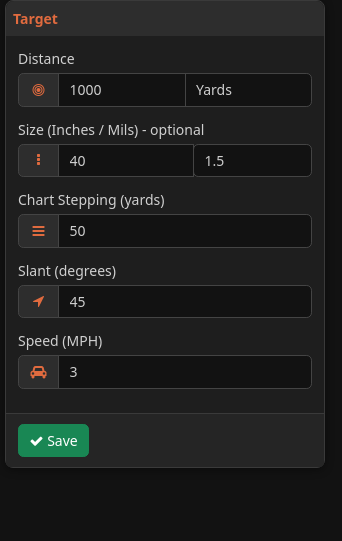
Test case: displays validation error for chartStepping when value exceeds max
Replace the text in the number field named "chartStepping" with "600" at (185, 231), box x1=58 y1=214 x2=312 y2=248
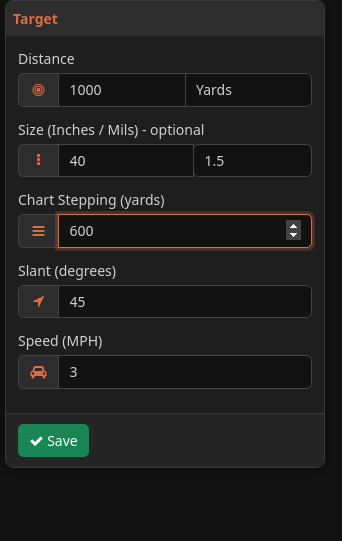
Press Tab
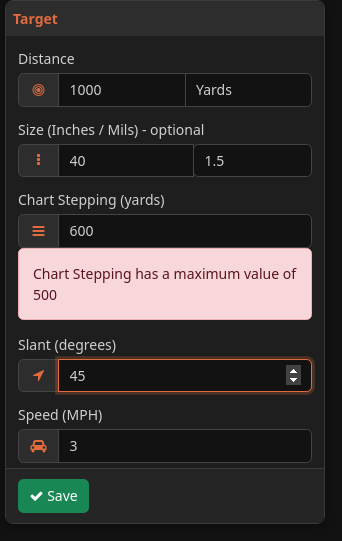
Now the text "Chart Stepping has a maximum value of 500" is shown, box x1=18 y1=248 x2=312 y2=320
